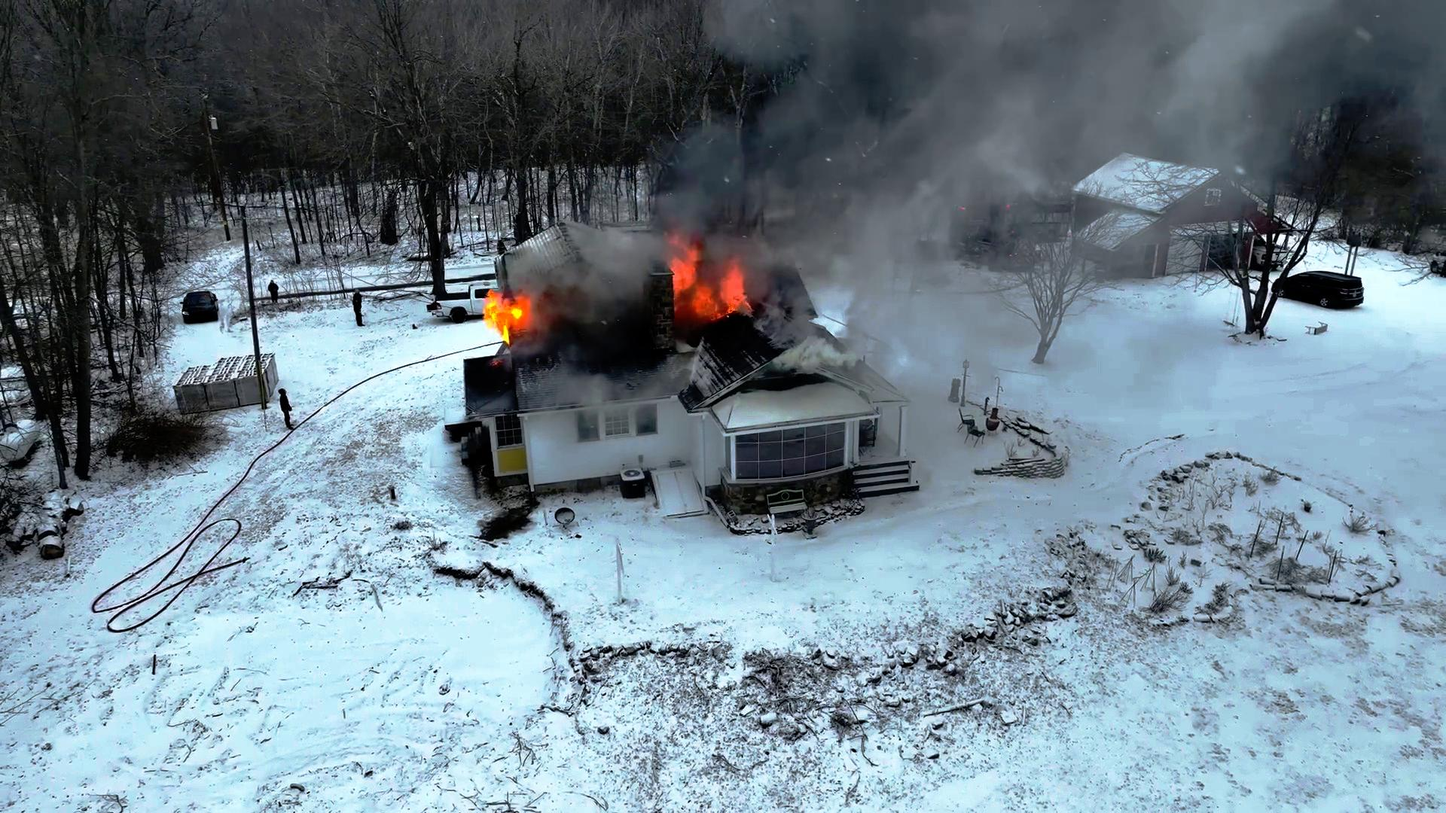fire: (661, 232, 751, 323), (486, 288, 543, 350)
